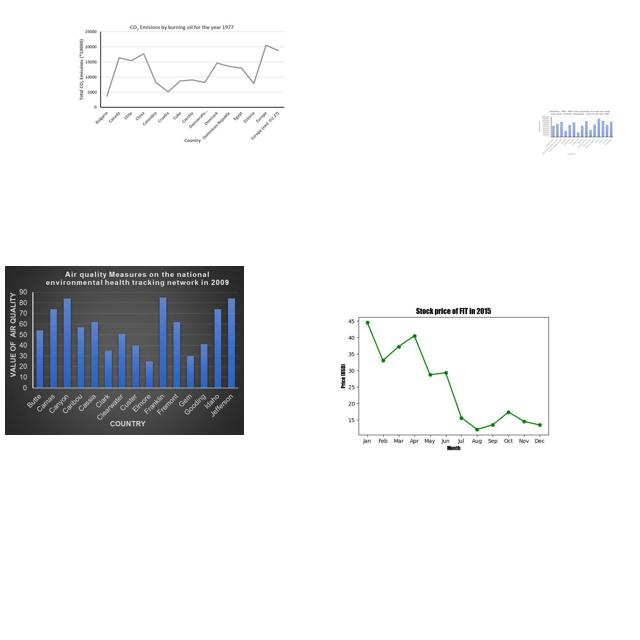Graph: (328, 283, 573, 467), (5, 266, 244, 435), (78, 23, 286, 144), (538, 109, 615, 155)
